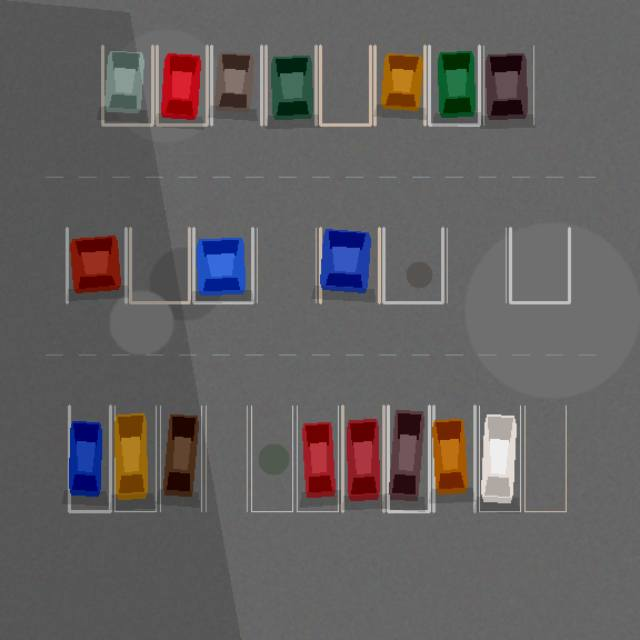space-empty: (524, 406, 566, 511), (130, 228, 189, 302), (257, 228, 316, 302), (383, 228, 442, 302), (447, 228, 506, 302), (510, 228, 569, 302), (206, 406, 247, 511), (251, 406, 292, 511), (320, 46, 370, 124)
space-occupied: (114, 406, 156, 511), (67, 228, 126, 302), (193, 228, 252, 302), (320, 228, 379, 302), (69, 406, 110, 511), (160, 406, 201, 511), (297, 406, 338, 511), (342, 406, 383, 511), (388, 406, 429, 511), (433, 406, 474, 511), (479, 406, 520, 511), (102, 46, 152, 124), (157, 46, 207, 124), (211, 46, 261, 124), (266, 46, 316, 124), (374, 46, 424, 124), (429, 46, 479, 124), (483, 46, 533, 124)
